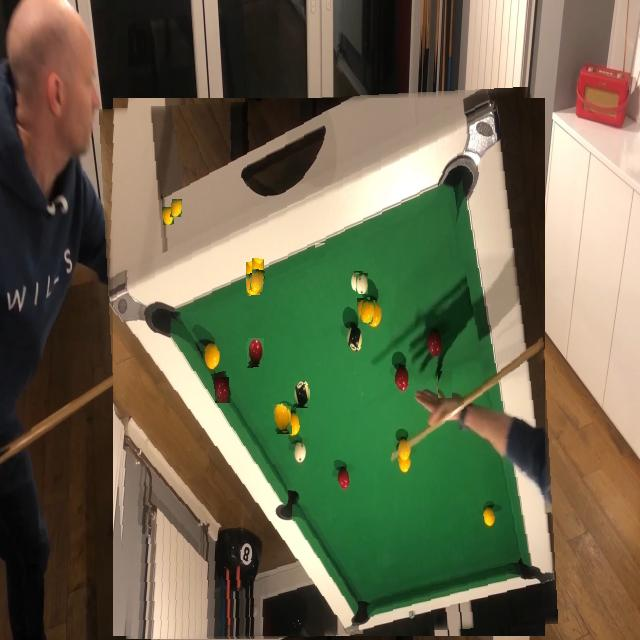Ball: (213, 371, 230, 399), (273, 404, 290, 432), (248, 338, 264, 364), (294, 381, 309, 407), (438, 371, 452, 398), (360, 300, 375, 324), (250, 270, 265, 292), (356, 273, 368, 294), (314, 243, 325, 265), (252, 258, 264, 275), (171, 199, 182, 217)
Billiard table: (106, 92, 551, 640)
